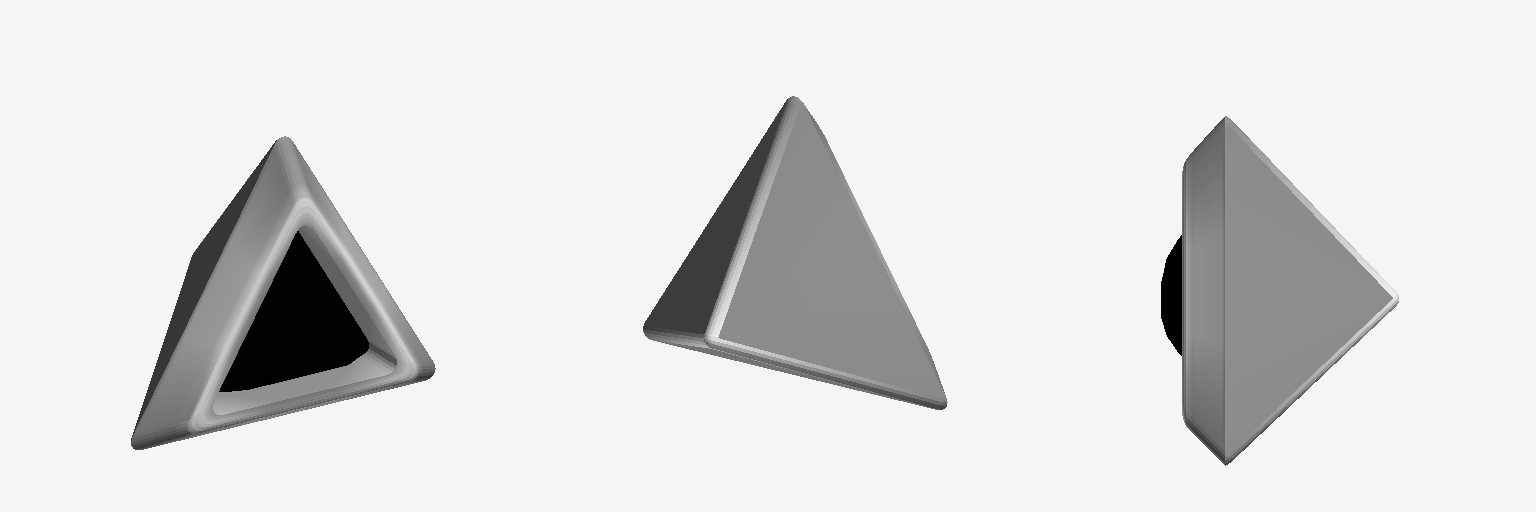
The picture shows the model from 3 angles: view 1: azimuth 30°, elevation 25°; view 2: azimuth 150°, elevation 25°; view 3: azimuth 270°, elevation 25°; orthographic projection.
Visible parts, largest first — view 1: Gem_LOD0_Cylinder.017; view 2: Gem_LOD0_Cylinder.017; view 3: Gem_LOD0_Cylinder.017.
Boxes of the visible parts, box(x1,y1,x2,y2) form: Gem_LOD0_Cylinder.017: box(131, 136, 435, 449); Gem_LOD0_Cylinder.017: box(643, 96, 947, 409); Gem_LOD0_Cylinder.017: box(1161, 116, 1398, 465).
Bounding box in the file's own units: 0.2997 × 0.2623 × 0.2034.
Materials: 2 (1 with a texture image).